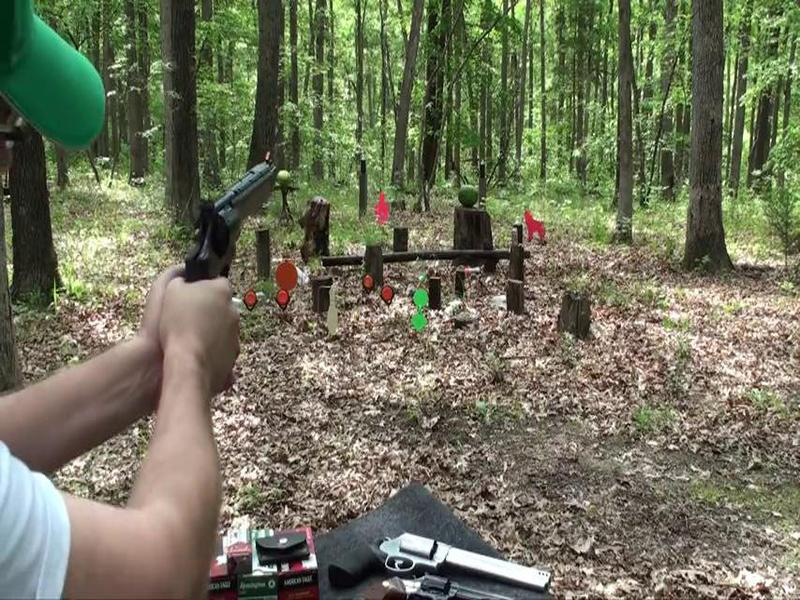Revolver: (186, 146, 285, 306)
